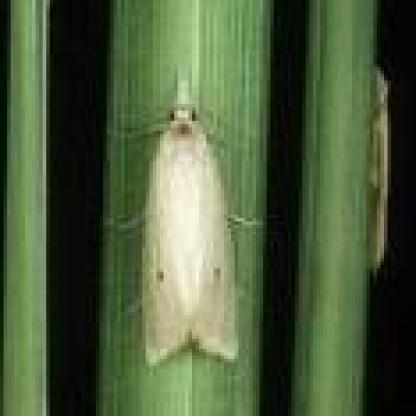stem-borer: (123, 72, 243, 374)
